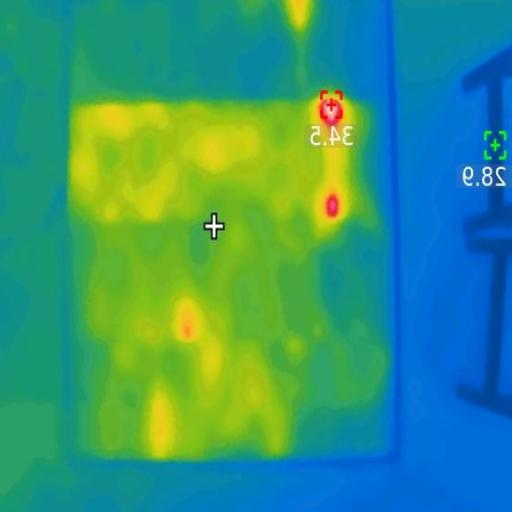hotspot: (316, 96, 342, 128), (323, 192, 342, 219)
